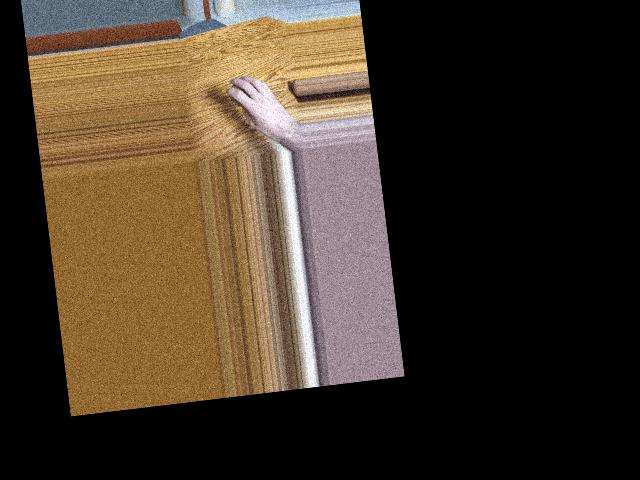onion: (228, 80, 255, 108)
